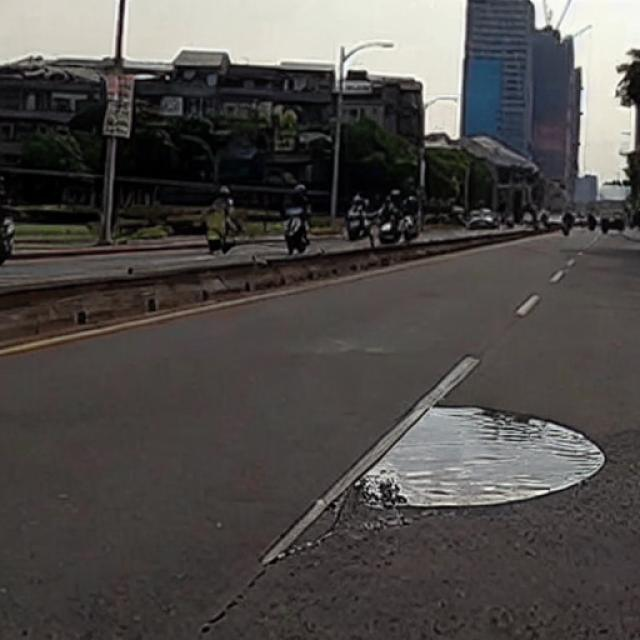puddle: (352, 407, 604, 511)
